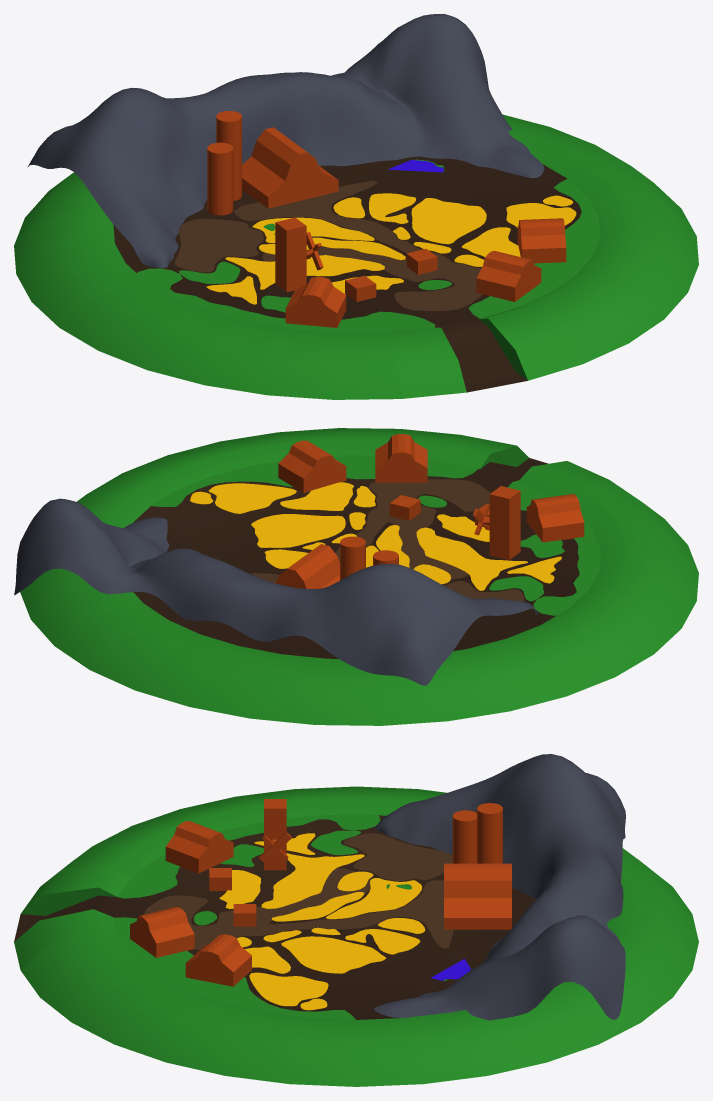
The model's file is Map.fbx.
3 views of the same model, one above another, from view 1: azimuth 30°, elevation 25°; view 2: azimuth 150°, elevation 25°; view 3: azimuth 270°, elevation 25° (orthographic).
Visible parts, largest first — view 1: Circle, Plane.023, Plane.024, Circle.005, Plane.022, Plane.014, Plane.012, Plane.013, Plane.019, Plane.021, Plane.018, Circle.004 (+3 smaller); view 2: Circle, Plane.023, Plane.024, Plane.014, Plane.022, Circle.005, Plane.013, Plane.018, Plane.021, Plane.019, Plane.012, Circle.003 (+1 smaller); view 3: Circle, Plane.023, Plane.024, Plane.022, Plane.014, Circle.005, Plane.012, Plane.021, Plane.018, Plane.019, Plane.013, Circle.003 (+3 smaller).
Part boxes in pixels (left/top/right/bottom): Circle: left=14, top=114, right=698, bottom=399; Plane.023: left=27, top=14, right=544, bottom=268; Plane.024: left=206, top=193, right=576, bottom=304; Circle.005: left=389, top=306, right=582, bottom=398; Plane.022: left=174, top=180, right=482, bottom=310; Plane.014: left=136, top=178, right=600, bottom=332; Plane.012: left=242, top=127, right=338, bottom=208; Plane.013: left=275, top=217, right=323, bottom=292; Plane.019: left=476, top=250, right=541, bottom=301; Plane.021: left=285, top=276, right=346, bottom=327; Plane.018: left=517, top=218, right=566, bottom=263; Circle.004: left=207, top=142, right=233, bottom=215; Circle: left=20, top=428, right=698, bottom=725; Plane.023: left=14, top=498, right=537, bottom=685; Plane.024: left=190, top=482, right=561, bottom=590; Plane.014: left=150, top=455, right=600, bottom=615; Plane.022: left=251, top=479, right=524, bottom=601; Circle.005: left=437, top=435, right=608, bottom=494; Plane.013: left=473, top=486, right=520, bottom=559; Plane.018: left=278, top=440, right=346, bottom=493; Plane.021: left=526, top=494, right=584, bottom=542; Plane.019: left=375, top=434, right=427, bottom=482; Plane.012: left=275, top=544, right=339, bottom=588; Circle.003: left=340, top=536, right=365, bottom=580; Circle: left=20, top=786, right=698, bottom=1086; Plane.023: left=373, top=754, right=625, bottom=1020; Plane.024: left=219, top=833, right=425, bottom=1010; Plane.022: left=143, top=833, right=453, bottom=950; Plane.014: left=113, top=814, right=411, bottom=1019; Circle.005: left=14, top=866, right=131, bottom=969; Plane.012: left=444, top=863, right=511, bottom=929; Plane.021: left=165, top=821, right=233, bottom=873; Plane.018: left=185, top=934, right=251, bottom=986; Plane.019: left=130, top=907, right=194, bottom=957; Plane.013: left=259, top=799, right=291, bottom=870; Circle.003: left=477, top=803, right=502, bottom=863.
Size of the model in its own units: 211 by 41.08 by 211.
